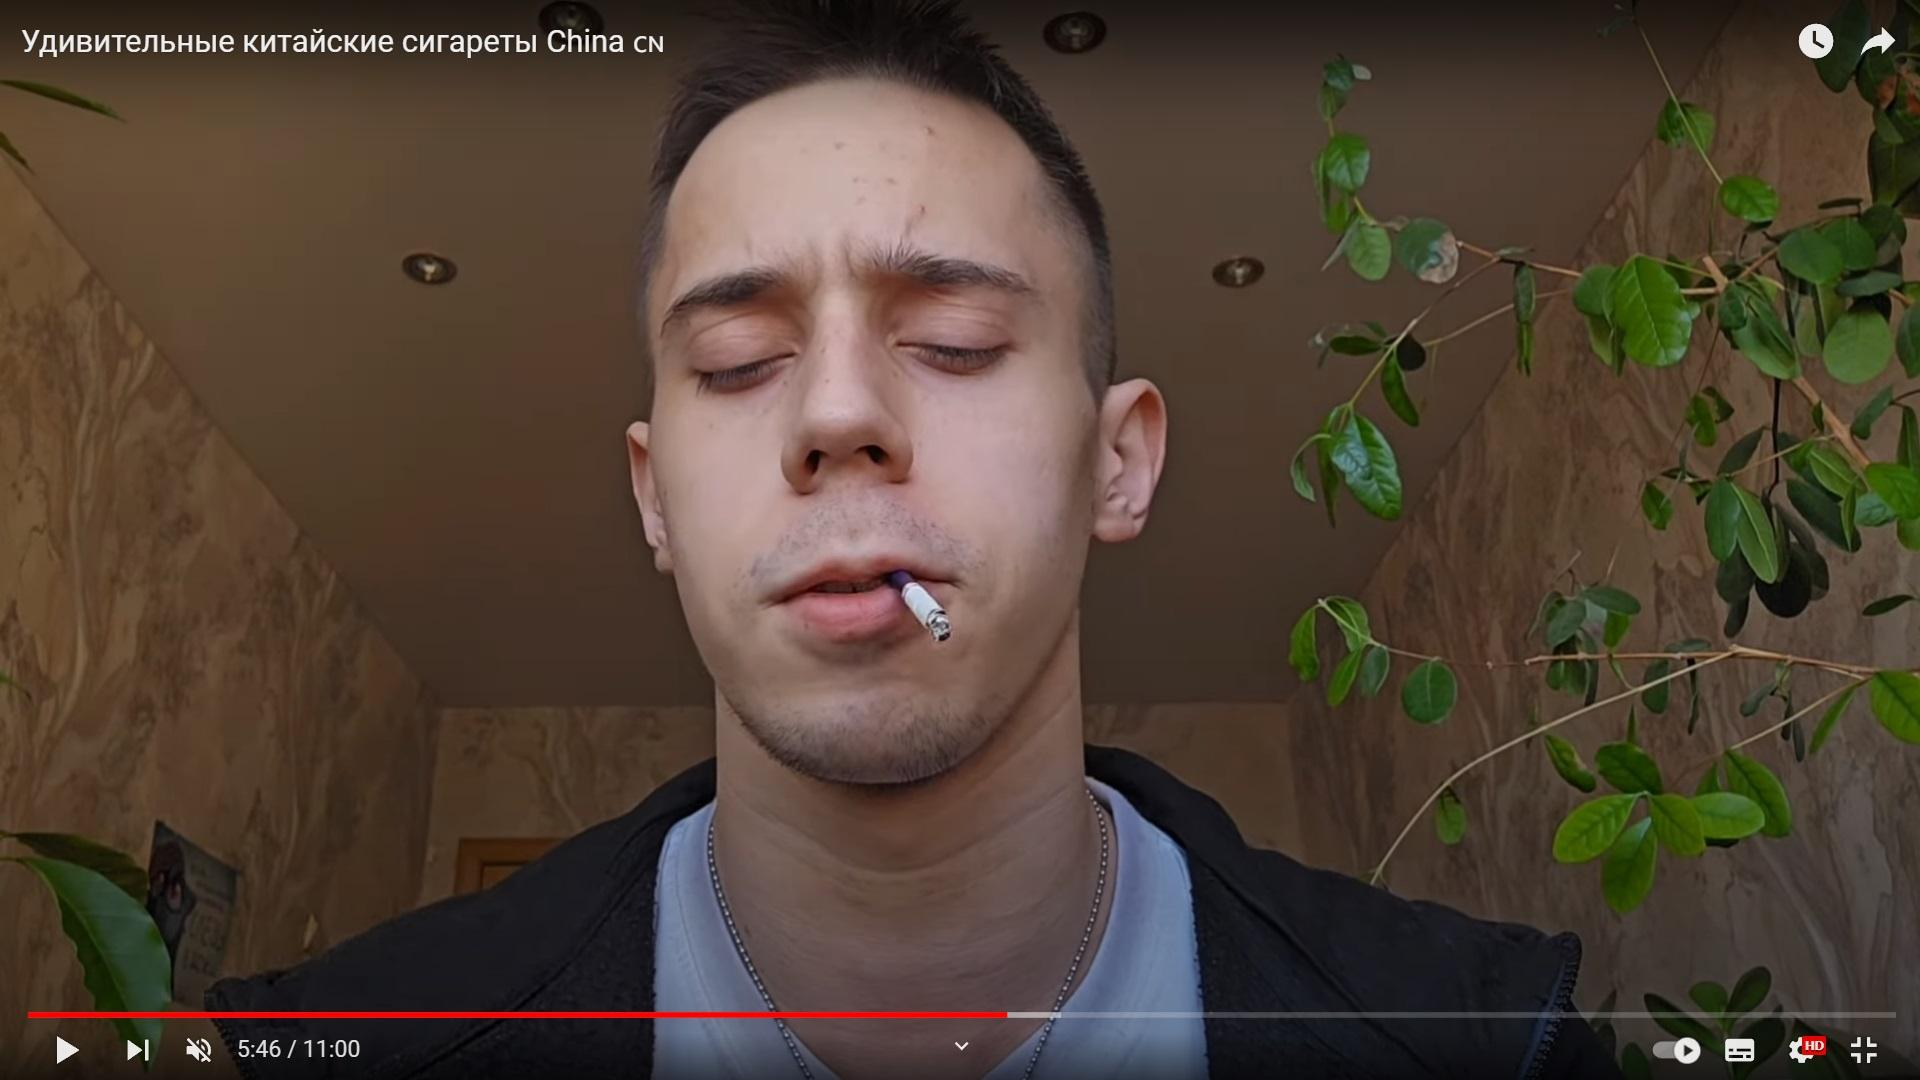cigarette: (886, 568, 953, 642)
